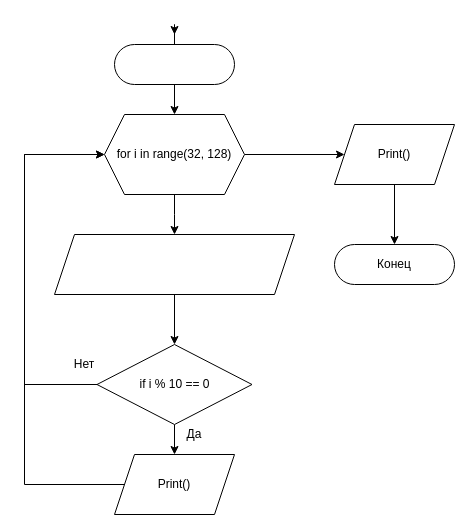
Image size: 472x532. Some labels were removed from this diagram. Each missing label, with the centre of its shape:
print("%4d-%s" % (i, chr(i)), end=''): (174,264)
Начало: (174,64)
